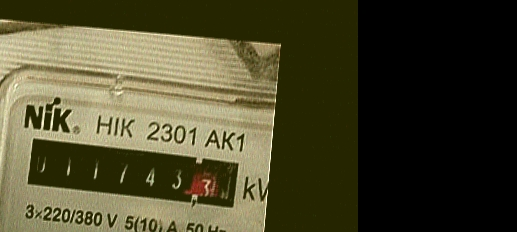0: (34, 147, 50, 175)
1: (60, 150, 77, 179), (88, 153, 104, 182)
3: (169, 164, 185, 192), (197, 177, 214, 199)
4: (143, 163, 159, 189)
7: (115, 159, 131, 185)
screen: (19, 132, 249, 216)
